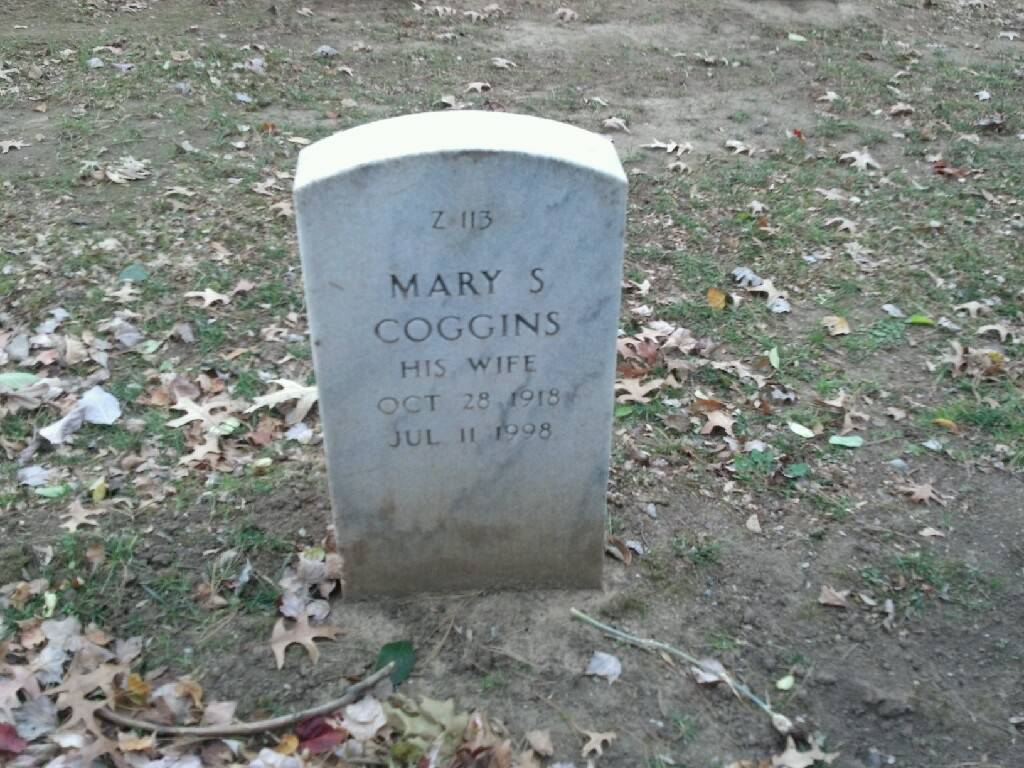upright: (285, 105, 628, 608)
